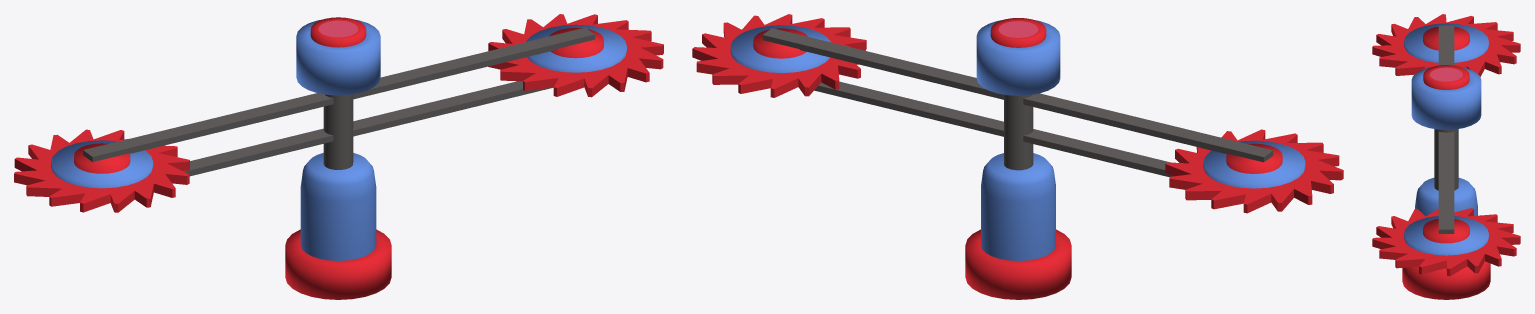
Rendered from Obstacle 17 V1.fbx.
3 renders of one model, left to right at view 1: azimuth 30°, elevation 25°; view 2: azimuth 150°, elevation 25°; view 3: azimuth 270°, elevation 25°, orthographic. The views are drawn at different scales.
Visible parts, largest first — view 1: O17 Part 3, O17 Part 4, O17 Part 2, O17 Part 1; view 2: O17 Part 3, O17 Part 4, O17 Part 2, O17 Part 1; view 3: O17 Part 3, O17 Part 1, O17 Part 2, O17 Part 4.
Part boxes in pixels (<box>): O17 Part 3: <box>285,17,391,299</box>; O17 Part 4: <box>83,27,594,176</box>; O17 Part 2: <box>14,129,189,212</box>; O17 Part 1: <box>488,14,663,97</box>; O17 Part 3: <box>965,18,1071,299</box>; O17 Part 4: <box>762,28,1273,177</box>; O17 Part 2: <box>1165,129,1343,213</box>; O17 Part 1: <box>692,14,866,97</box>; O17 Part 3: <box>1402,65,1490,299</box>; O17 Part 1: <box>1372,208,1520,276</box>; O17 Part 2: <box>1372,14,1520,76</box>; O17 Part 4: <box>1434,25,1458,233</box>.
Bounding box in the file's own units: 308 × 116 × 75.75.
Materials: 1 (1 with a texture image).
